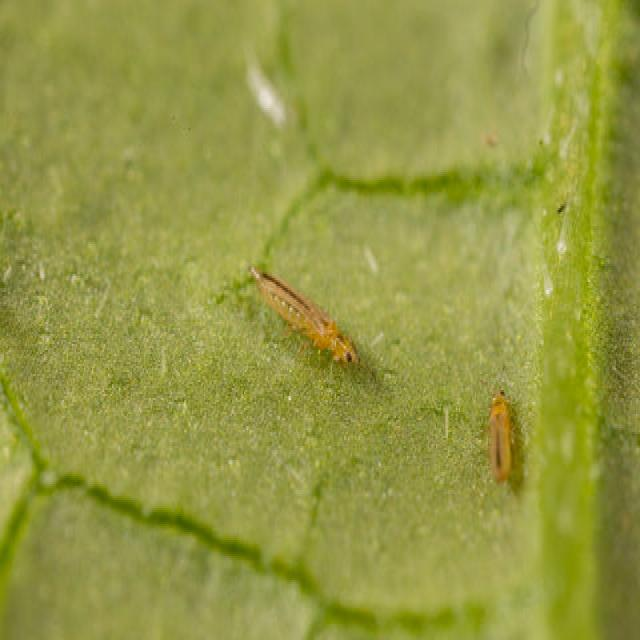Thrip-Adult-: (245, 264, 366, 374), (477, 381, 522, 481)
